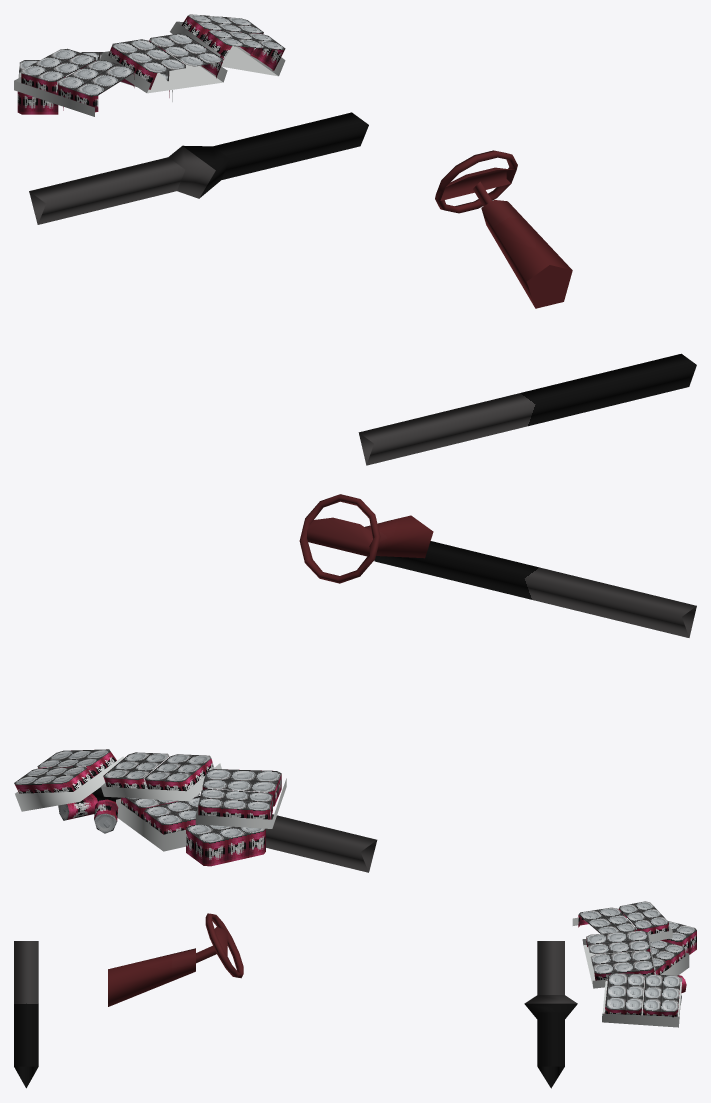
The model's file is extrasShape.obj.
3 views of the same model, one above another, from view 1: azimuth 30°, elevation 25°; view 2: azimuth 150°, elevation 25°; view 3: azimuth 270°, elevation 25° (orthographic). The views are drawn at different scales.
Parts seen in each view (by area): view 1: extrasShape; view 2: extrasShape; view 3: extrasShape.
Part boxes in pixels (left/top/right/bottom): extrasShape: left=14, top=14, right=696, bottom=465; extrasShape: left=14, top=494, right=696, bottom=872; extrasShape: left=14, top=901, right=696, bottom=1088.
Bounding box in the file's own units: 1.88 × 1.02 × 4.31.
